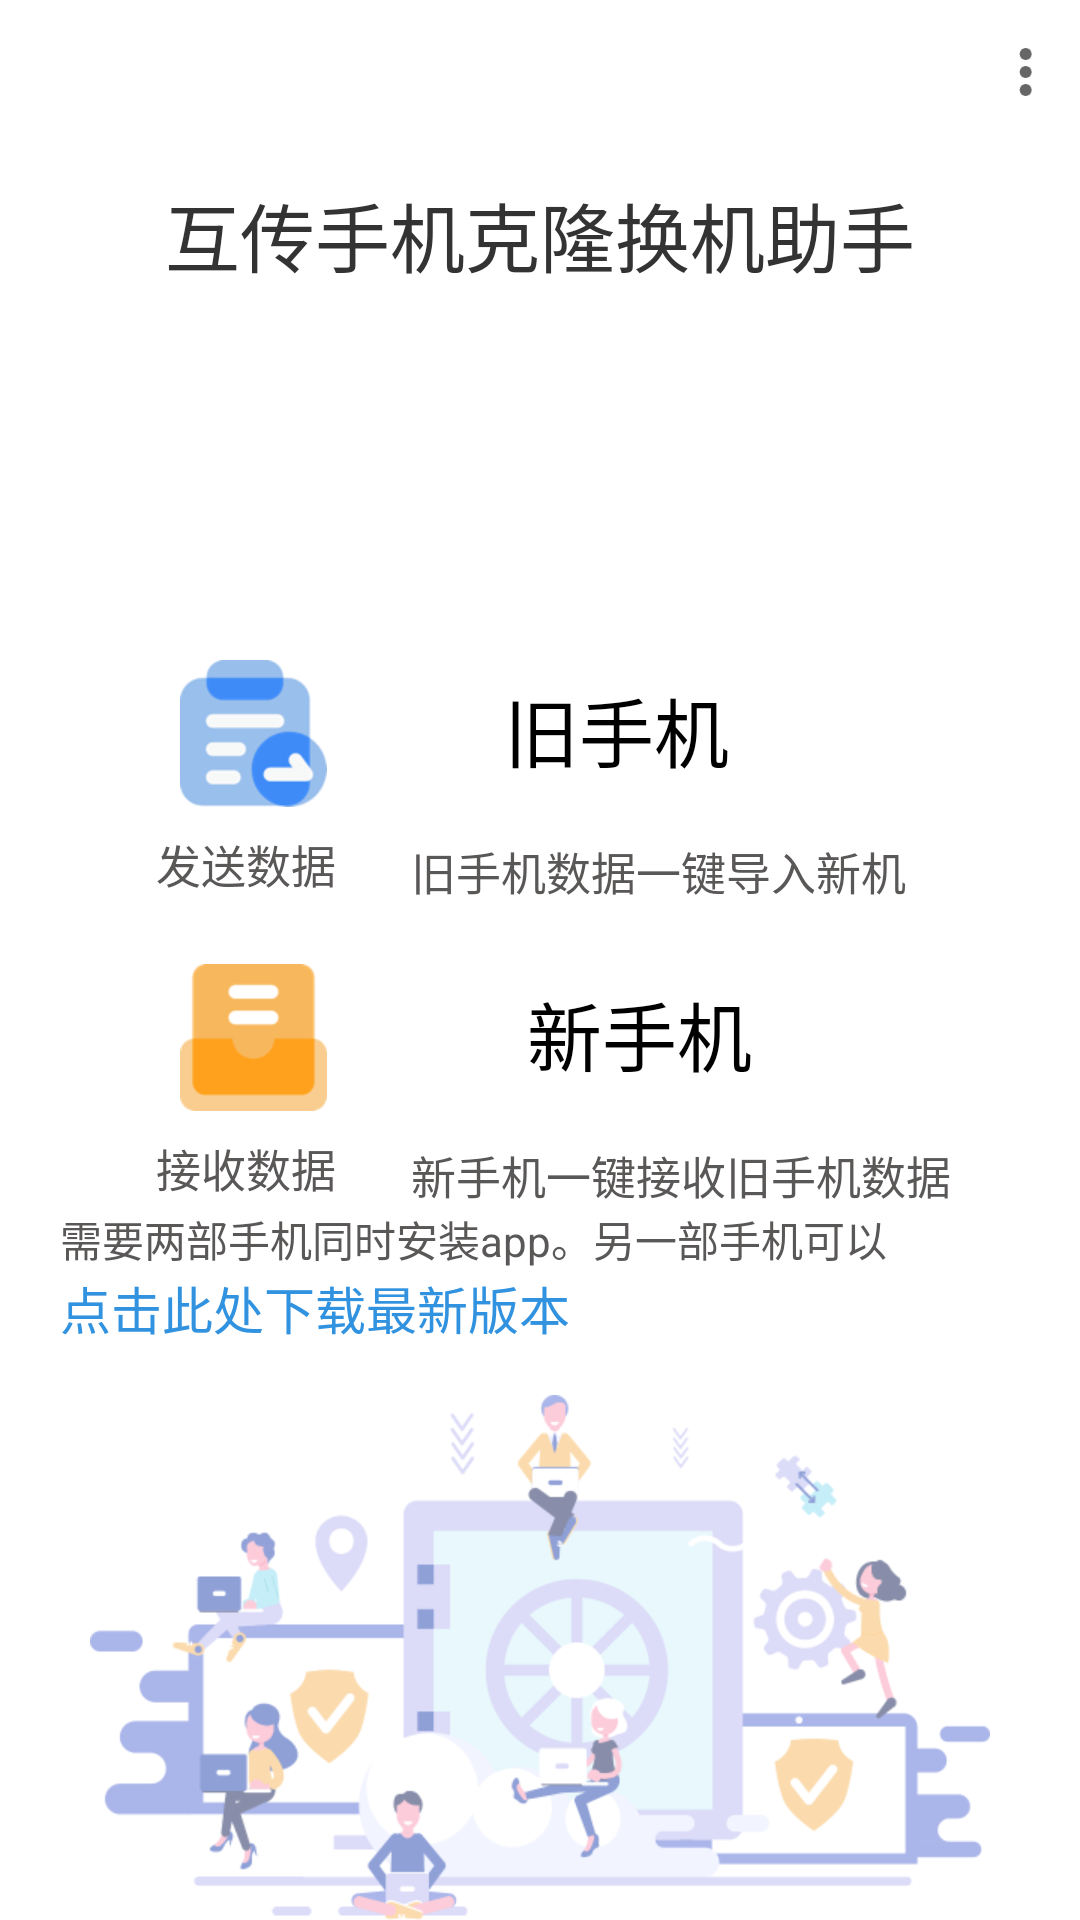

Named icons in this screenshot (1080x1920) and their bounding boxes, box=[x1, y1, x2, y2]:
menu: box=[1019, 48, 1032, 96]
